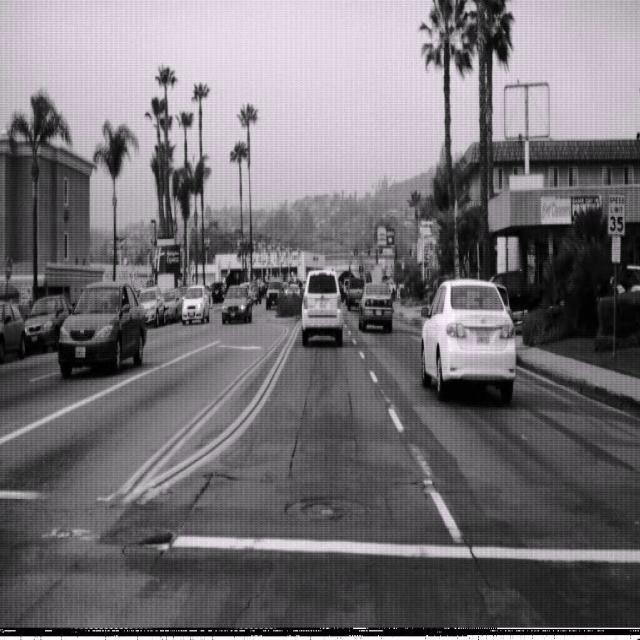speedLimit35: (607, 190, 626, 237)
